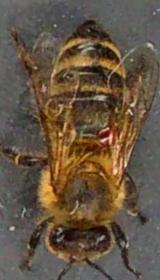varroa_mite: (92, 117, 118, 151)
